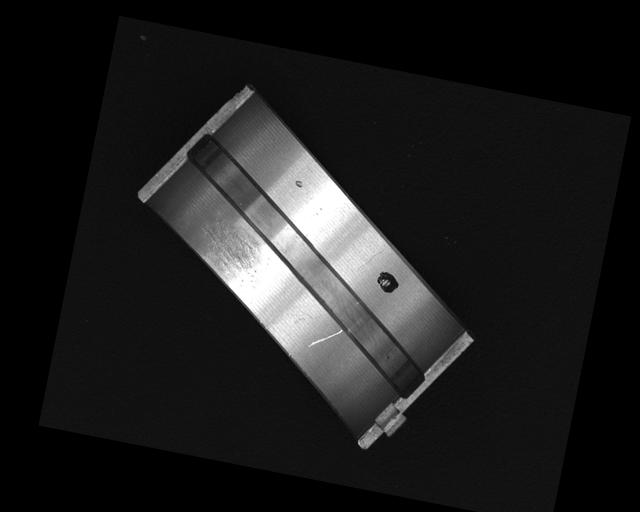blot: (373, 268, 401, 297)
bruise: (292, 179, 304, 190)
gap: (148, 134, 462, 401)
nick: (306, 322, 342, 352), (355, 245, 383, 276)
scratch: (188, 216, 273, 298)
